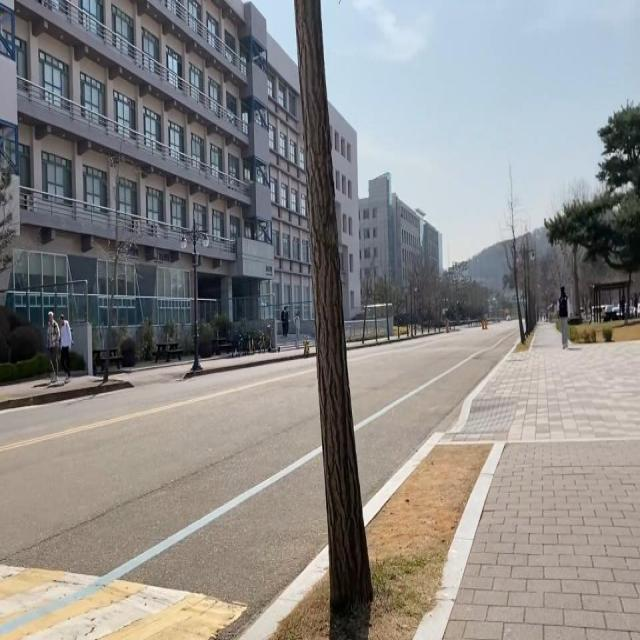sidewalk: (443, 322, 640, 639)
